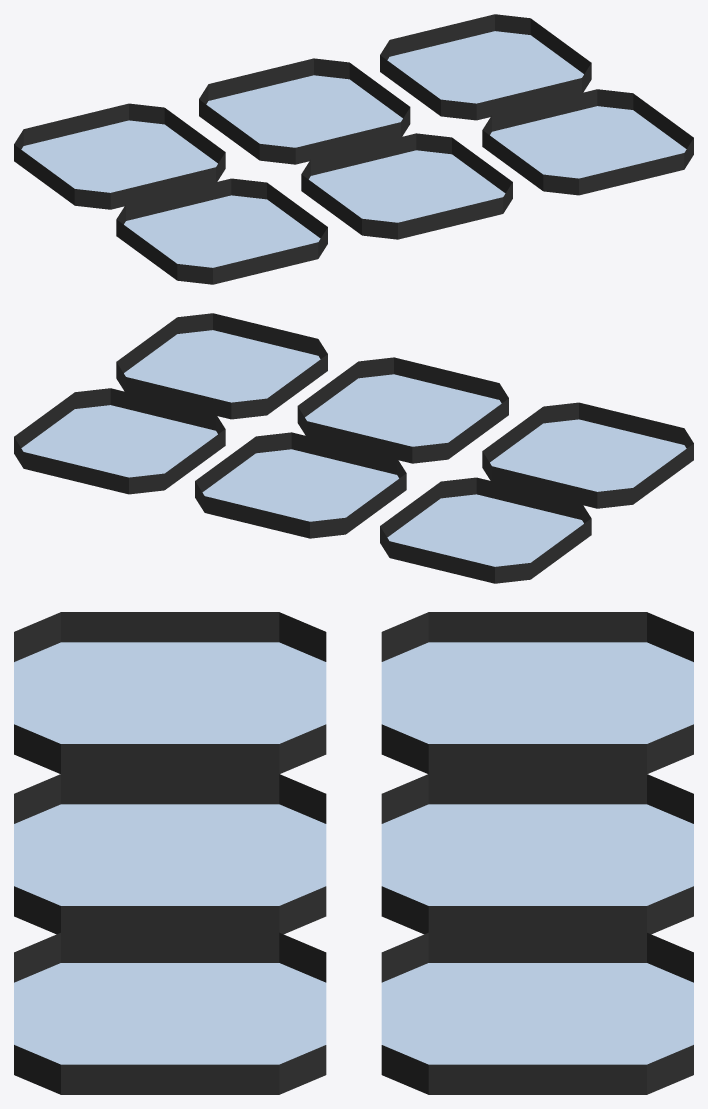
Rendered from Lighting_Panel.fbx.
3 views of the same model, one above another, from view 1: azimuth 30°, elevation 25°; view 2: azimuth 150°, elevation 25°; view 3: azimuth 270°, elevation 25° (orthographic). The views are drawn at different scales.
Visible parts, largest first — view 1: Lighting_Panel; view 2: Lighting_Panel; view 3: Lighting_Panel.
Boxes of the visible parts, bbox=[...] form: Lighting_Panel: bbox=[14, 14, 693, 284]; Lighting_Panel: bbox=[14, 313, 693, 583]; Lighting_Panel: bbox=[14, 612, 693, 1094].
Bounding box in the file's own units: 249 × 7.78 × 158.
